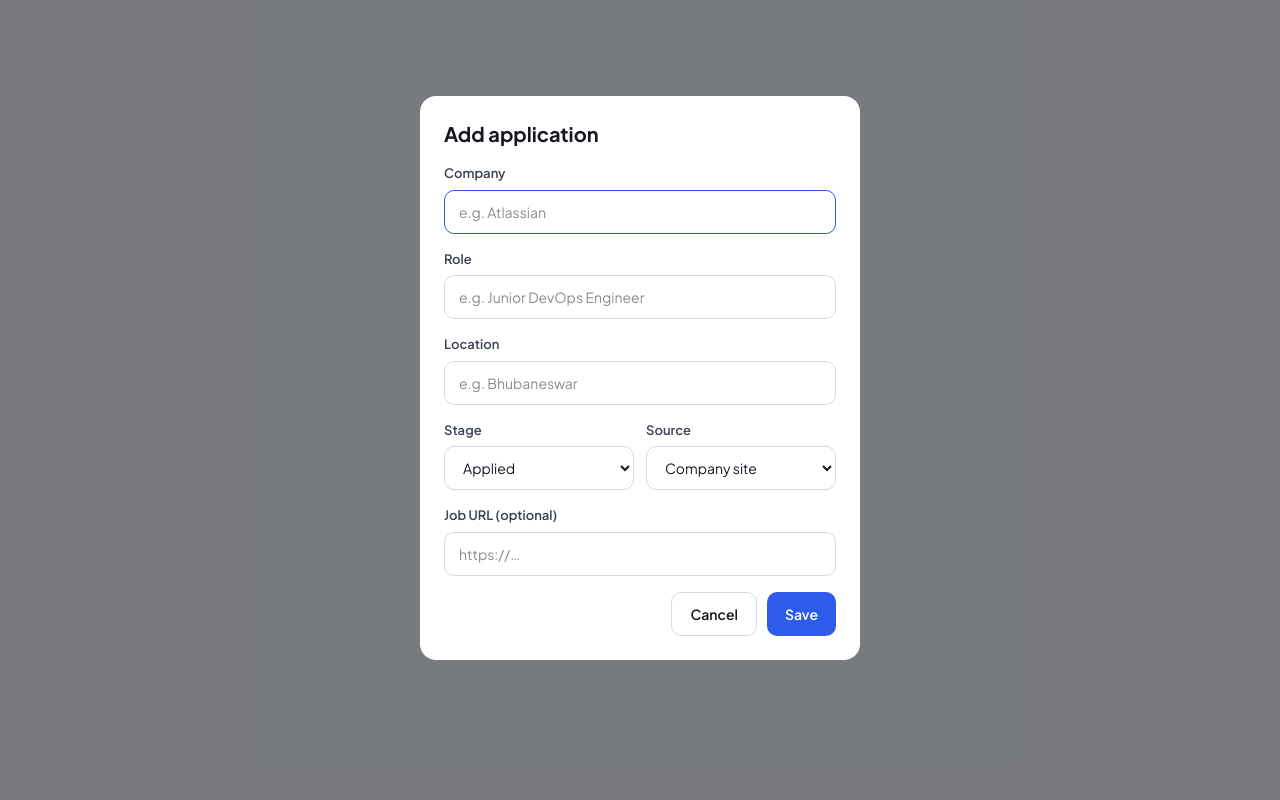
it: AddApplicationModal › rejects a non-URL job link
In the field labelled "Job URL (optional)": (640, 554) [444,532,836,576], type "careers page"
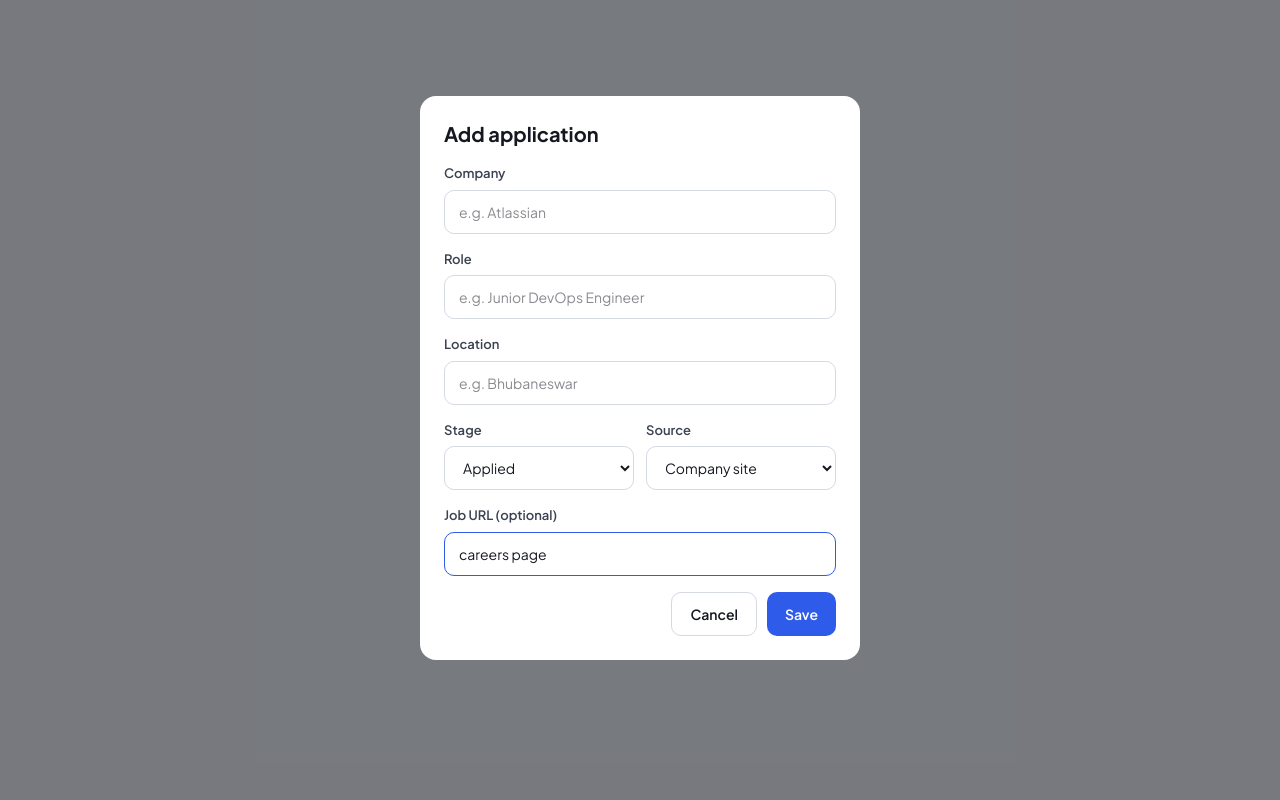
Click the button "Save": (802, 614) [767,592,836,636]
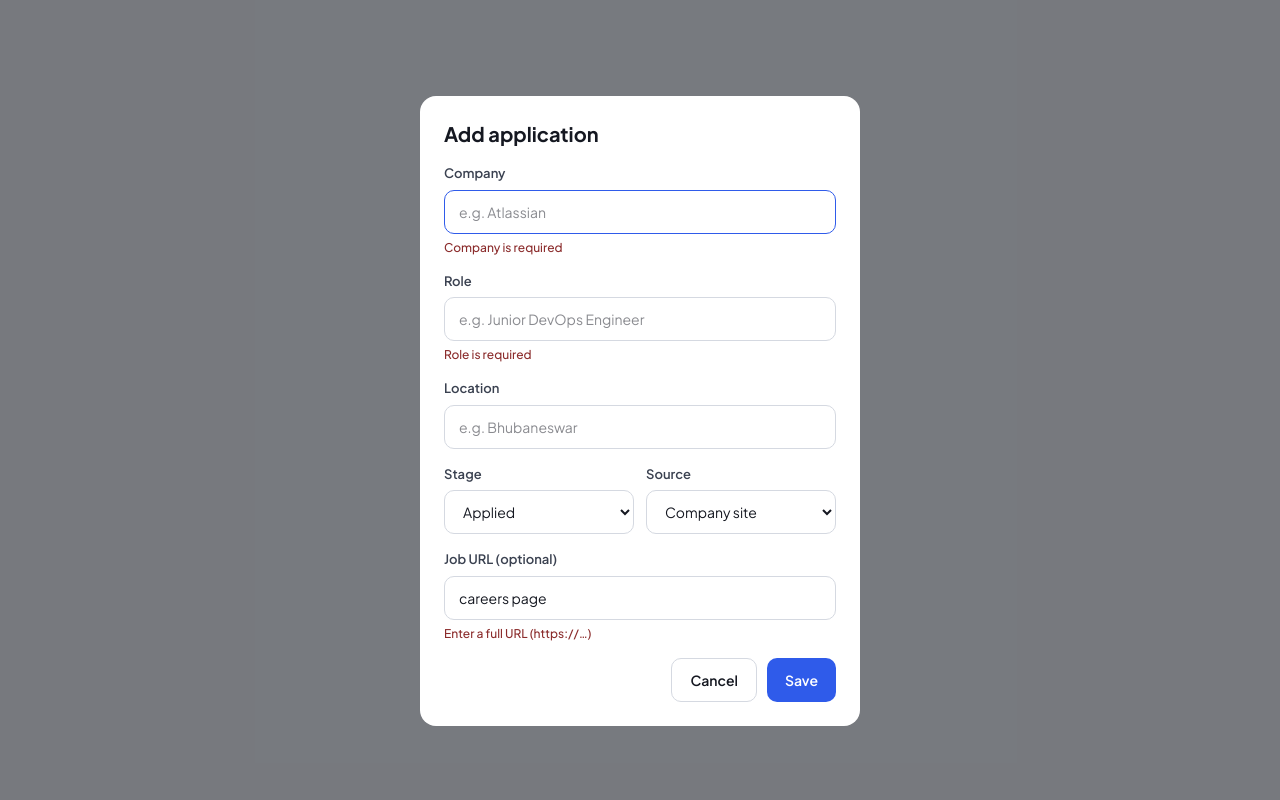
expect the text "Enter a full URL (https://…)" is shown: met, box [444,626,591,640]
